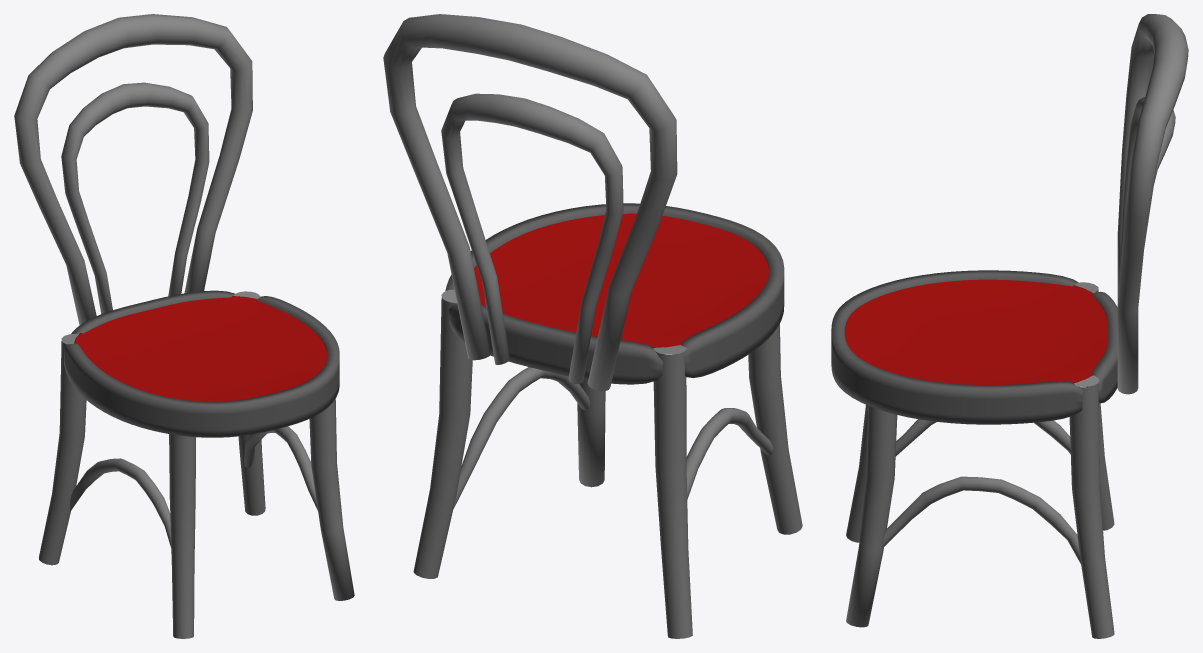
The model's file is chair.fbx.
3 views of the same model, side by side, from view 1: azimuth 30°, elevation 25°; view 2: azimuth 150°, elevation 25°; view 3: azimuth 270°, elevation 25° (orthographic). The views are drawn at different scales.
Parts seen in each view (by area): view 1: Circle, Vert.001, Vert, Circle.001, Vert.002, Vert.003; view 2: Vert.001, Vert, Circle, Circle.001, Vert.002, Vert.003; view 3: Circle, Circle.001, Vert, Vert.001, Vert.003, Vert.002.
Boxes of the visible parts, bbox=[...] form: Circle: bbox=[74, 296, 327, 401]; Vert.001: bbox=[14, 14, 252, 325]; Vert: bbox=[39, 341, 354, 638]; Circle.001: bbox=[64, 290, 339, 437]; Vert.002: bbox=[61, 82, 209, 313]; Vert.003: bbox=[70, 426, 317, 547]; Vert.001: bbox=[383, 14, 677, 391]; Vert: bbox=[413, 298, 802, 638]; Circle: bbox=[474, 213, 769, 347]; Circle.001: bbox=[444, 203, 784, 384]; Vert.002: bbox=[441, 93, 623, 383]; Vert.003: bbox=[453, 367, 773, 508]; Circle: bbox=[844, 279, 1107, 384]; Circle.001: bbox=[831, 270, 1117, 424]; Vert: bbox=[846, 286, 1114, 638]; Vert.001: bbox=[1117, 14, 1188, 394]; Vert.003: bbox=[883, 419, 1081, 564]; Vert.002: bbox=[1119, 97, 1175, 276].
Bounding box in the file's own units: 1.59 × 3.19 × 1.9.
